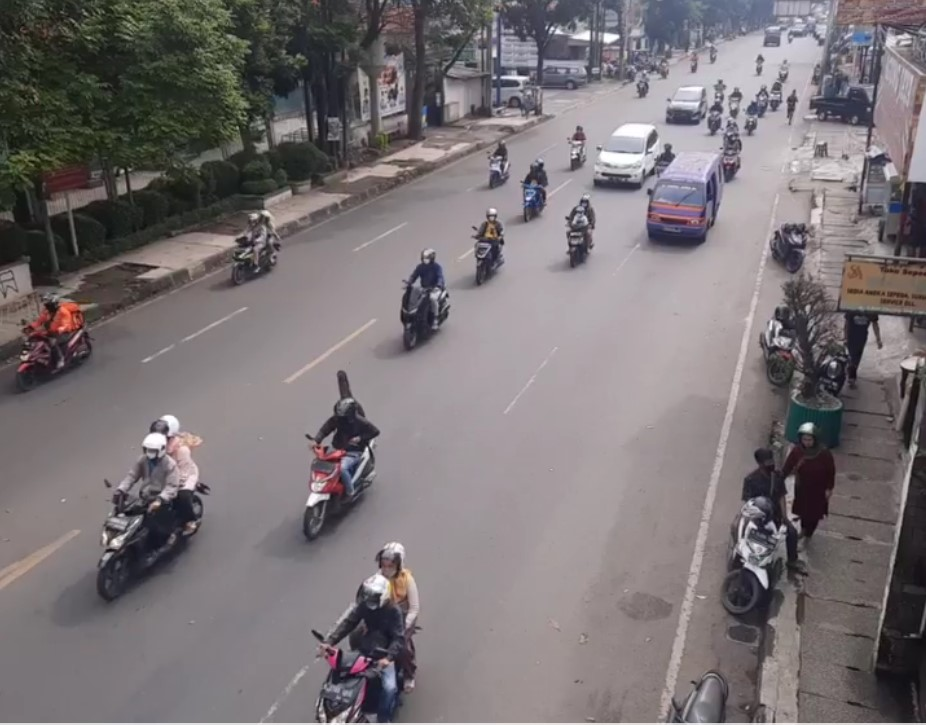motor: (284, 548, 461, 724), (83, 423, 219, 611), (292, 369, 382, 546), (17, 285, 97, 388), (394, 250, 453, 351), (233, 214, 284, 280), (470, 211, 505, 287), (567, 197, 596, 266), (519, 160, 550, 219), (487, 141, 510, 189)
